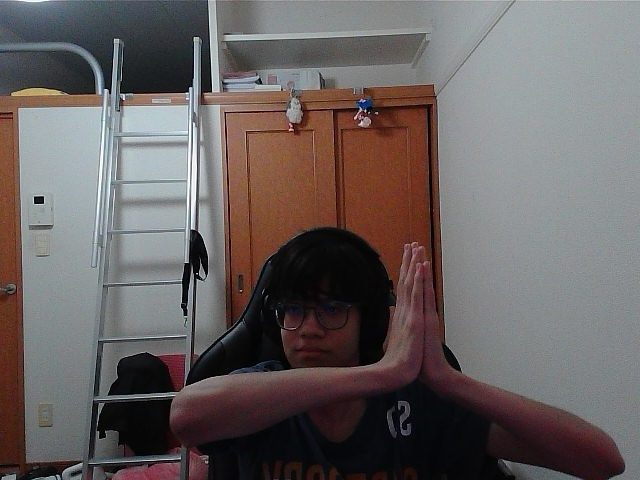pray: (391, 251, 419, 363)
